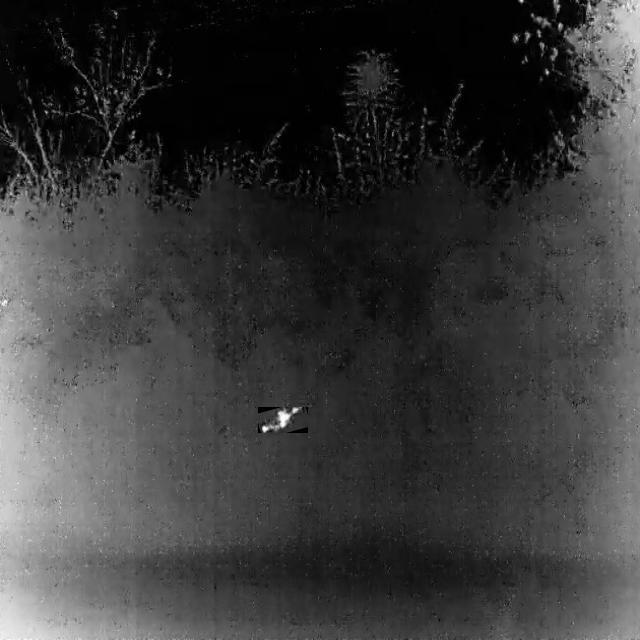drone: (258, 408, 308, 433)
